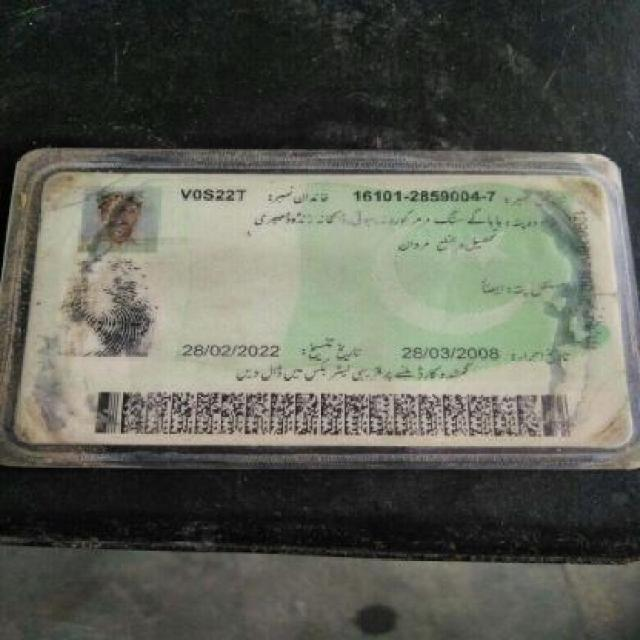Back: (14, 160, 634, 455)
